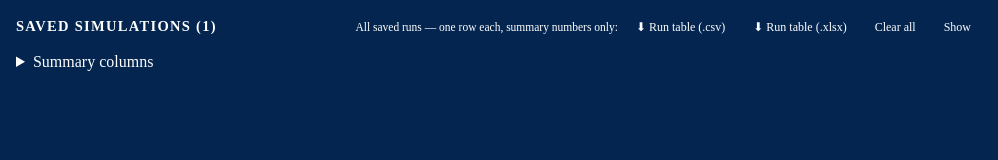
Test case: the disclosure toggles state whether they are open › Saved simulations: Show / Hide
Step 1. Click the button "Show" → (957, 28), box [934,16,981,39]
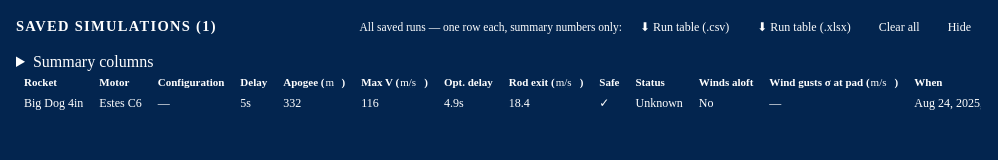
Result: the button "Hide" is expanded at [938,16,981,39]
